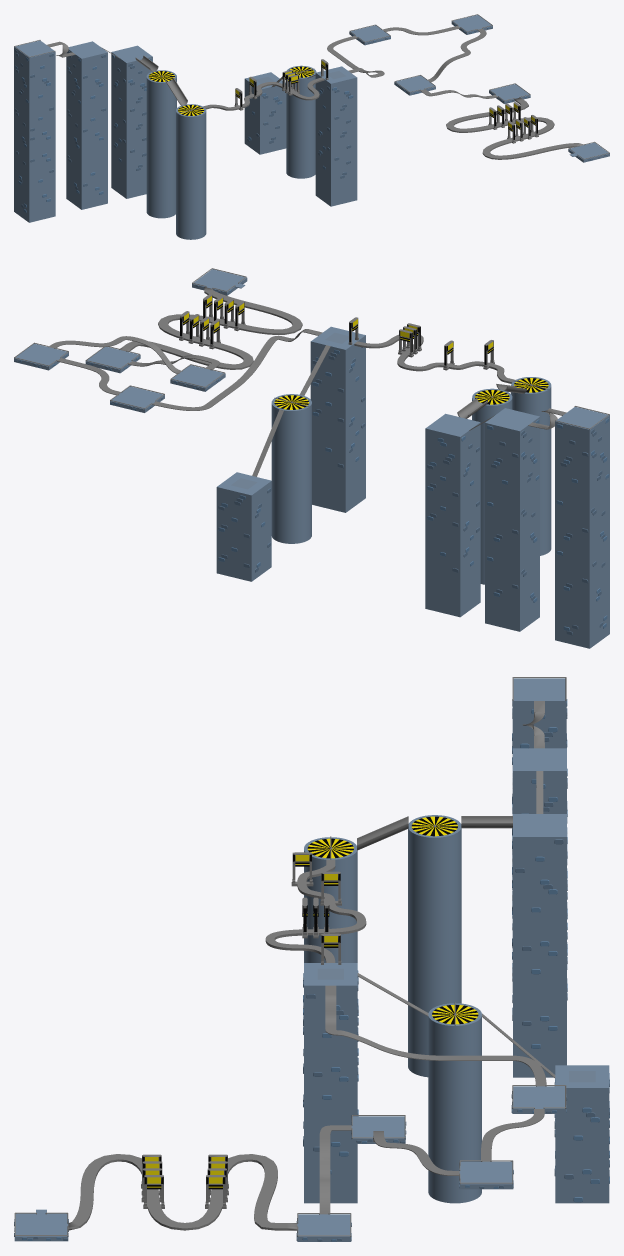
File: Level3 New.fbx
The picture shows the model from 3 angles, top to bottom: view 1: azimuth 30°, elevation 25°; view 2: azimuth 150°, elevation 25°; view 3: azimuth 270°, elevation 25°; orthographic projection. The views are drawn at different scales.
Parts seen in each view (by area): view 1: BaseKitchen.004, BaseKitchen.005, BaseKitchen.006, BaseKitchen.001, CylinderSpin.004, CylinderSpin.005, BaseKitchen.007, CylinderSpin.007, Plane.017, Plane.014, BaseCustomer2.003, BaseCustomer.003 (+5 smaller); view 2: BaseKitchen.004, BaseKitchen.005, BaseKitchen.001, BaseKitchen.006, CylinderSpin.007, BaseKitchen.007, Plane.017, CylinderSpin.005, CylinderSpin.004, Plane.013, Plane.014, BaseCustomer1.005 (+5 smaller); view 3: BaseKitchen.001, BaseKitchen.006, CylinderSpin.004, CylinderSpin.007, BaseKitchen.007, Plane.017, BaseKitchen.004, CylinderSpin.005, BaseKitchen.005, Plane.014, Plane.013, BaseCustomer2.003 (+9 smaller).
Boxes of the visible parts, left/top/right/bottom form: BaseKitchen.004: left=14, top=40, right=55, bottom=222; BaseKitchen.005: left=66, top=41, right=107, bottom=209; BaseKitchen.006: left=315, top=66, right=357, bottom=206; BaseKitchen.001: left=111, top=45, right=152, bottom=198; CylinderSpin.004: left=146, top=70, right=176, bottom=218; CylinderSpin.005: left=176, top=104, right=206, bottom=239; BaseKitchen.007: left=244, top=72, right=286, bottom=154; CylinderSpin.007: left=286, top=65, right=316, bottom=178; Plane.017: left=446, top=97, right=583, bottom=159; Plane.014: left=203, top=77, right=324, bottom=110; BaseCustomer2.003: left=568, top=141, right=609, bottom=162; BaseCustomer.003: left=349, top=24, right=390, bottom=45; BaseKitchen.004: left=555, top=406, right=609, bottom=648; BaseKitchen.005: left=485, top=408, right=539, bottom=631; BaseKitchen.001: left=425, top=413, right=480, bottom=617; BaseKitchen.006: left=310, top=326, right=365, bottom=512; CylinderSpin.007: left=271, top=394, right=311, bottom=543; BaseKitchen.007: left=216, top=472, right=271, bottom=581; Plane.017: left=120, top=287, right=302, bottom=369; CylinderSpin.005: left=511, top=377, right=551, bottom=555; CylinderSpin.004: left=472, top=388, right=512, bottom=584; Plane.013: left=152, top=329, right=322, bottom=410; Plane.014: left=354, top=334, right=514, bottom=383; BaseCustomer1.005: left=170, top=364, right=225, bottom=391; BaseKitchen.001: left=512, top=814, right=567, bottom=1077; BaseKitchen.006: left=303, top=963, right=358, bottom=1203; CylinderSpin.004: left=408, top=815, right=461, bottom=1077; CylinderSpin.007: left=428, top=1003, right=481, bottom=1203; BaseKitchen.007: left=554, top=1065, right=609, bottom=1203; Plane.017: left=68, top=1154, right=297, bottom=1230; BaseKitchen.004: left=512, top=677, right=567, bottom=992; CylinderSpin.005: left=304, top=837, right=357, bottom=962; BaseKitchen.005: left=512, top=748, right=567, bottom=1010; Plane.014: left=265, top=859, right=366, bottom=962; Plane.013: left=325, top=985, right=546, bottom=1086; BaseCustomer2.003: left=14, top=1209, right=68, bottom=1241.
Size of the model in its own units: 17070 by 6015 by 11058.
